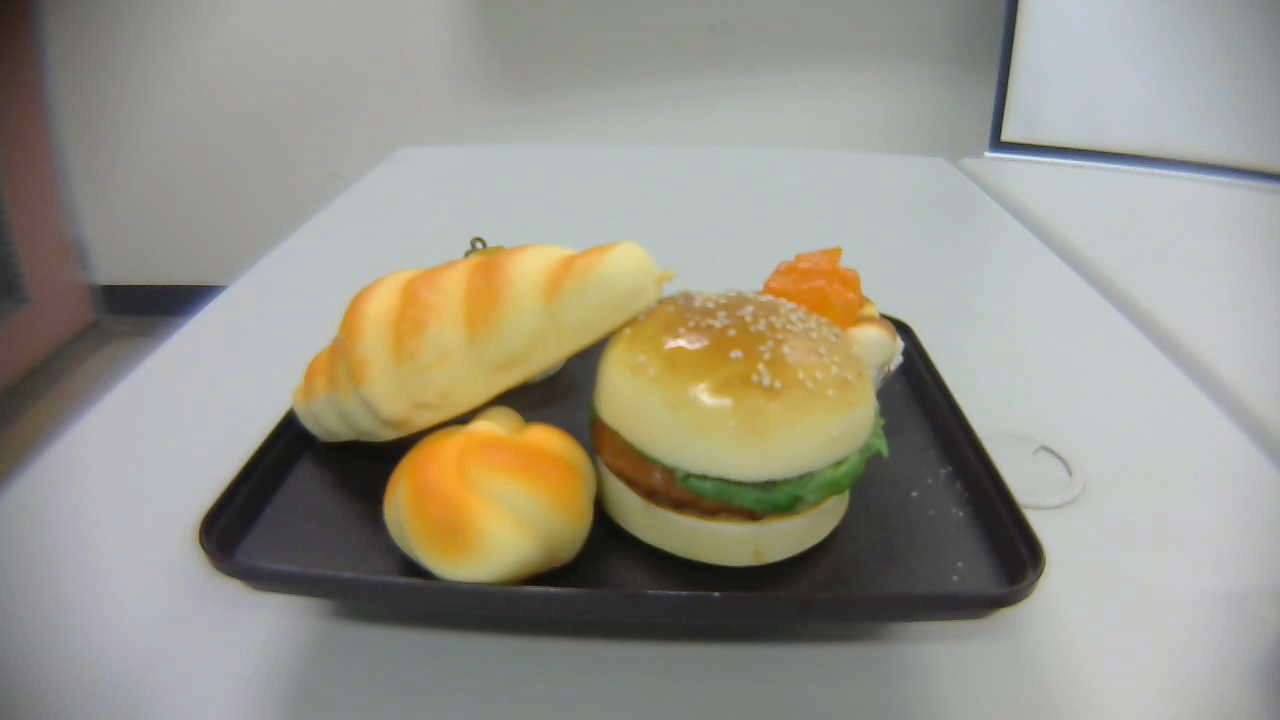croissant: (291, 241, 680, 444)
fruit tart: (439, 234, 570, 390)
hamburger: (593, 290, 887, 567)
mango tart: (739, 245, 906, 396)
twist bread: (380, 406, 597, 584)
